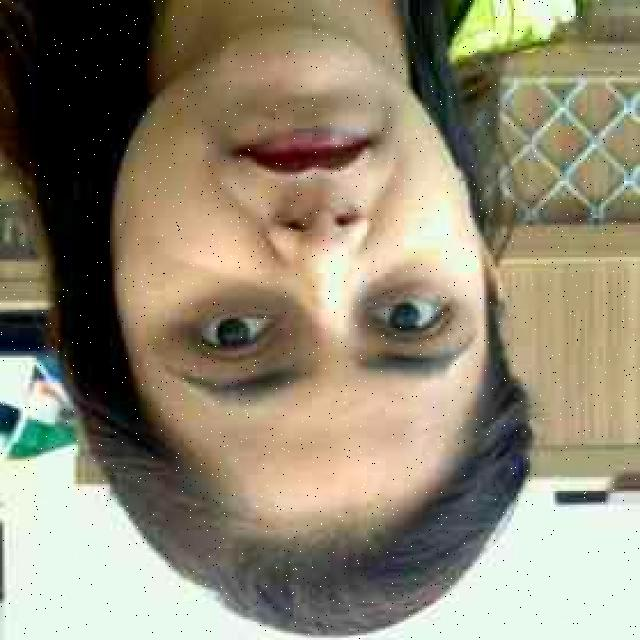puffy_eyes: (190, 286, 292, 317)
